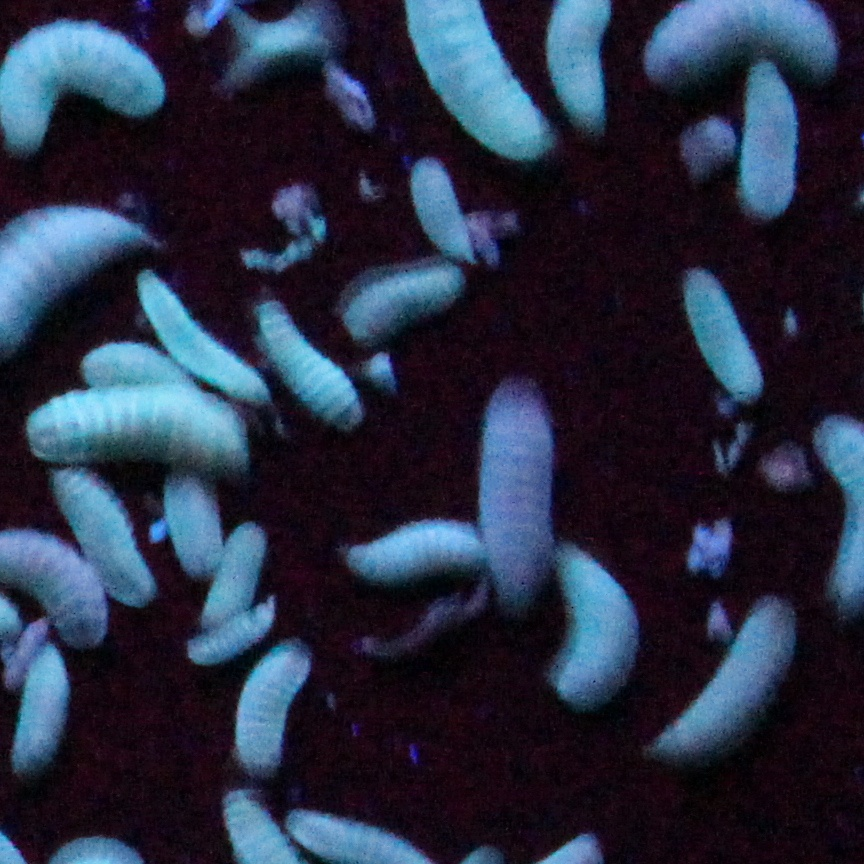larve: (649, 588, 798, 767), (125, 266, 278, 410), (37, 461, 162, 626), (25, 386, 249, 472), (551, 534, 639, 726), (713, 52, 812, 219), (252, 301, 372, 434), (336, 504, 489, 606), (223, 629, 323, 783), (484, 393, 557, 603), (328, 242, 472, 345), (680, 258, 774, 404), (393, 152, 502, 272), (10, 640, 77, 776), (202, 517, 272, 642)
